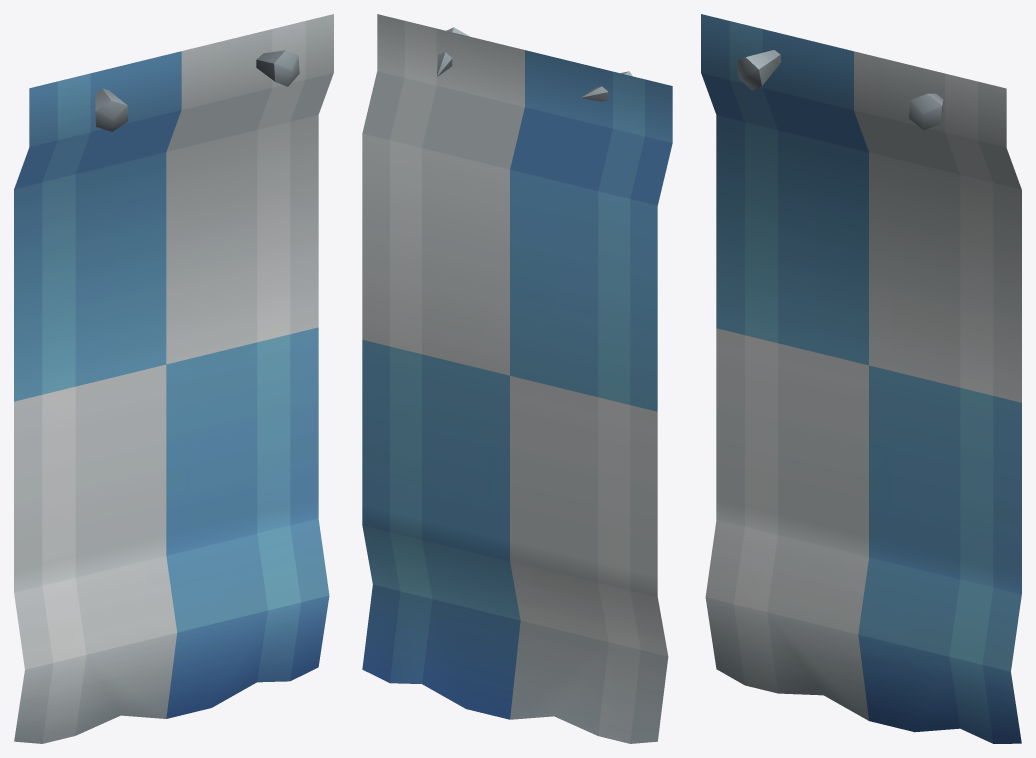
File: banner_blue.glb
The picture shows the model from 3 angles, left to right: view 1: azimuth 30°, elevation 25°; view 2: azimuth 150°, elevation 25°; view 3: azimuth 330°, elevation 25°; orthographic projection. The views are drawn at different scales.
Parts seen in each view (by area): view 1: banner_patternA_blue; view 2: banner_patternA_blue; view 3: banner_patternA_blue.
Part boxes in pixels (bbox=[...]): banner_patternA_blue: bbox=[14, 14, 333, 743]; banner_patternA_blue: bbox=[362, 14, 672, 743]; banner_patternA_blue: bbox=[701, 14, 1021, 743].
Bounding box in the file's own units: 1.5 × 3.2 × 0.3117.
Materials: 1 (1 with a texture image).
